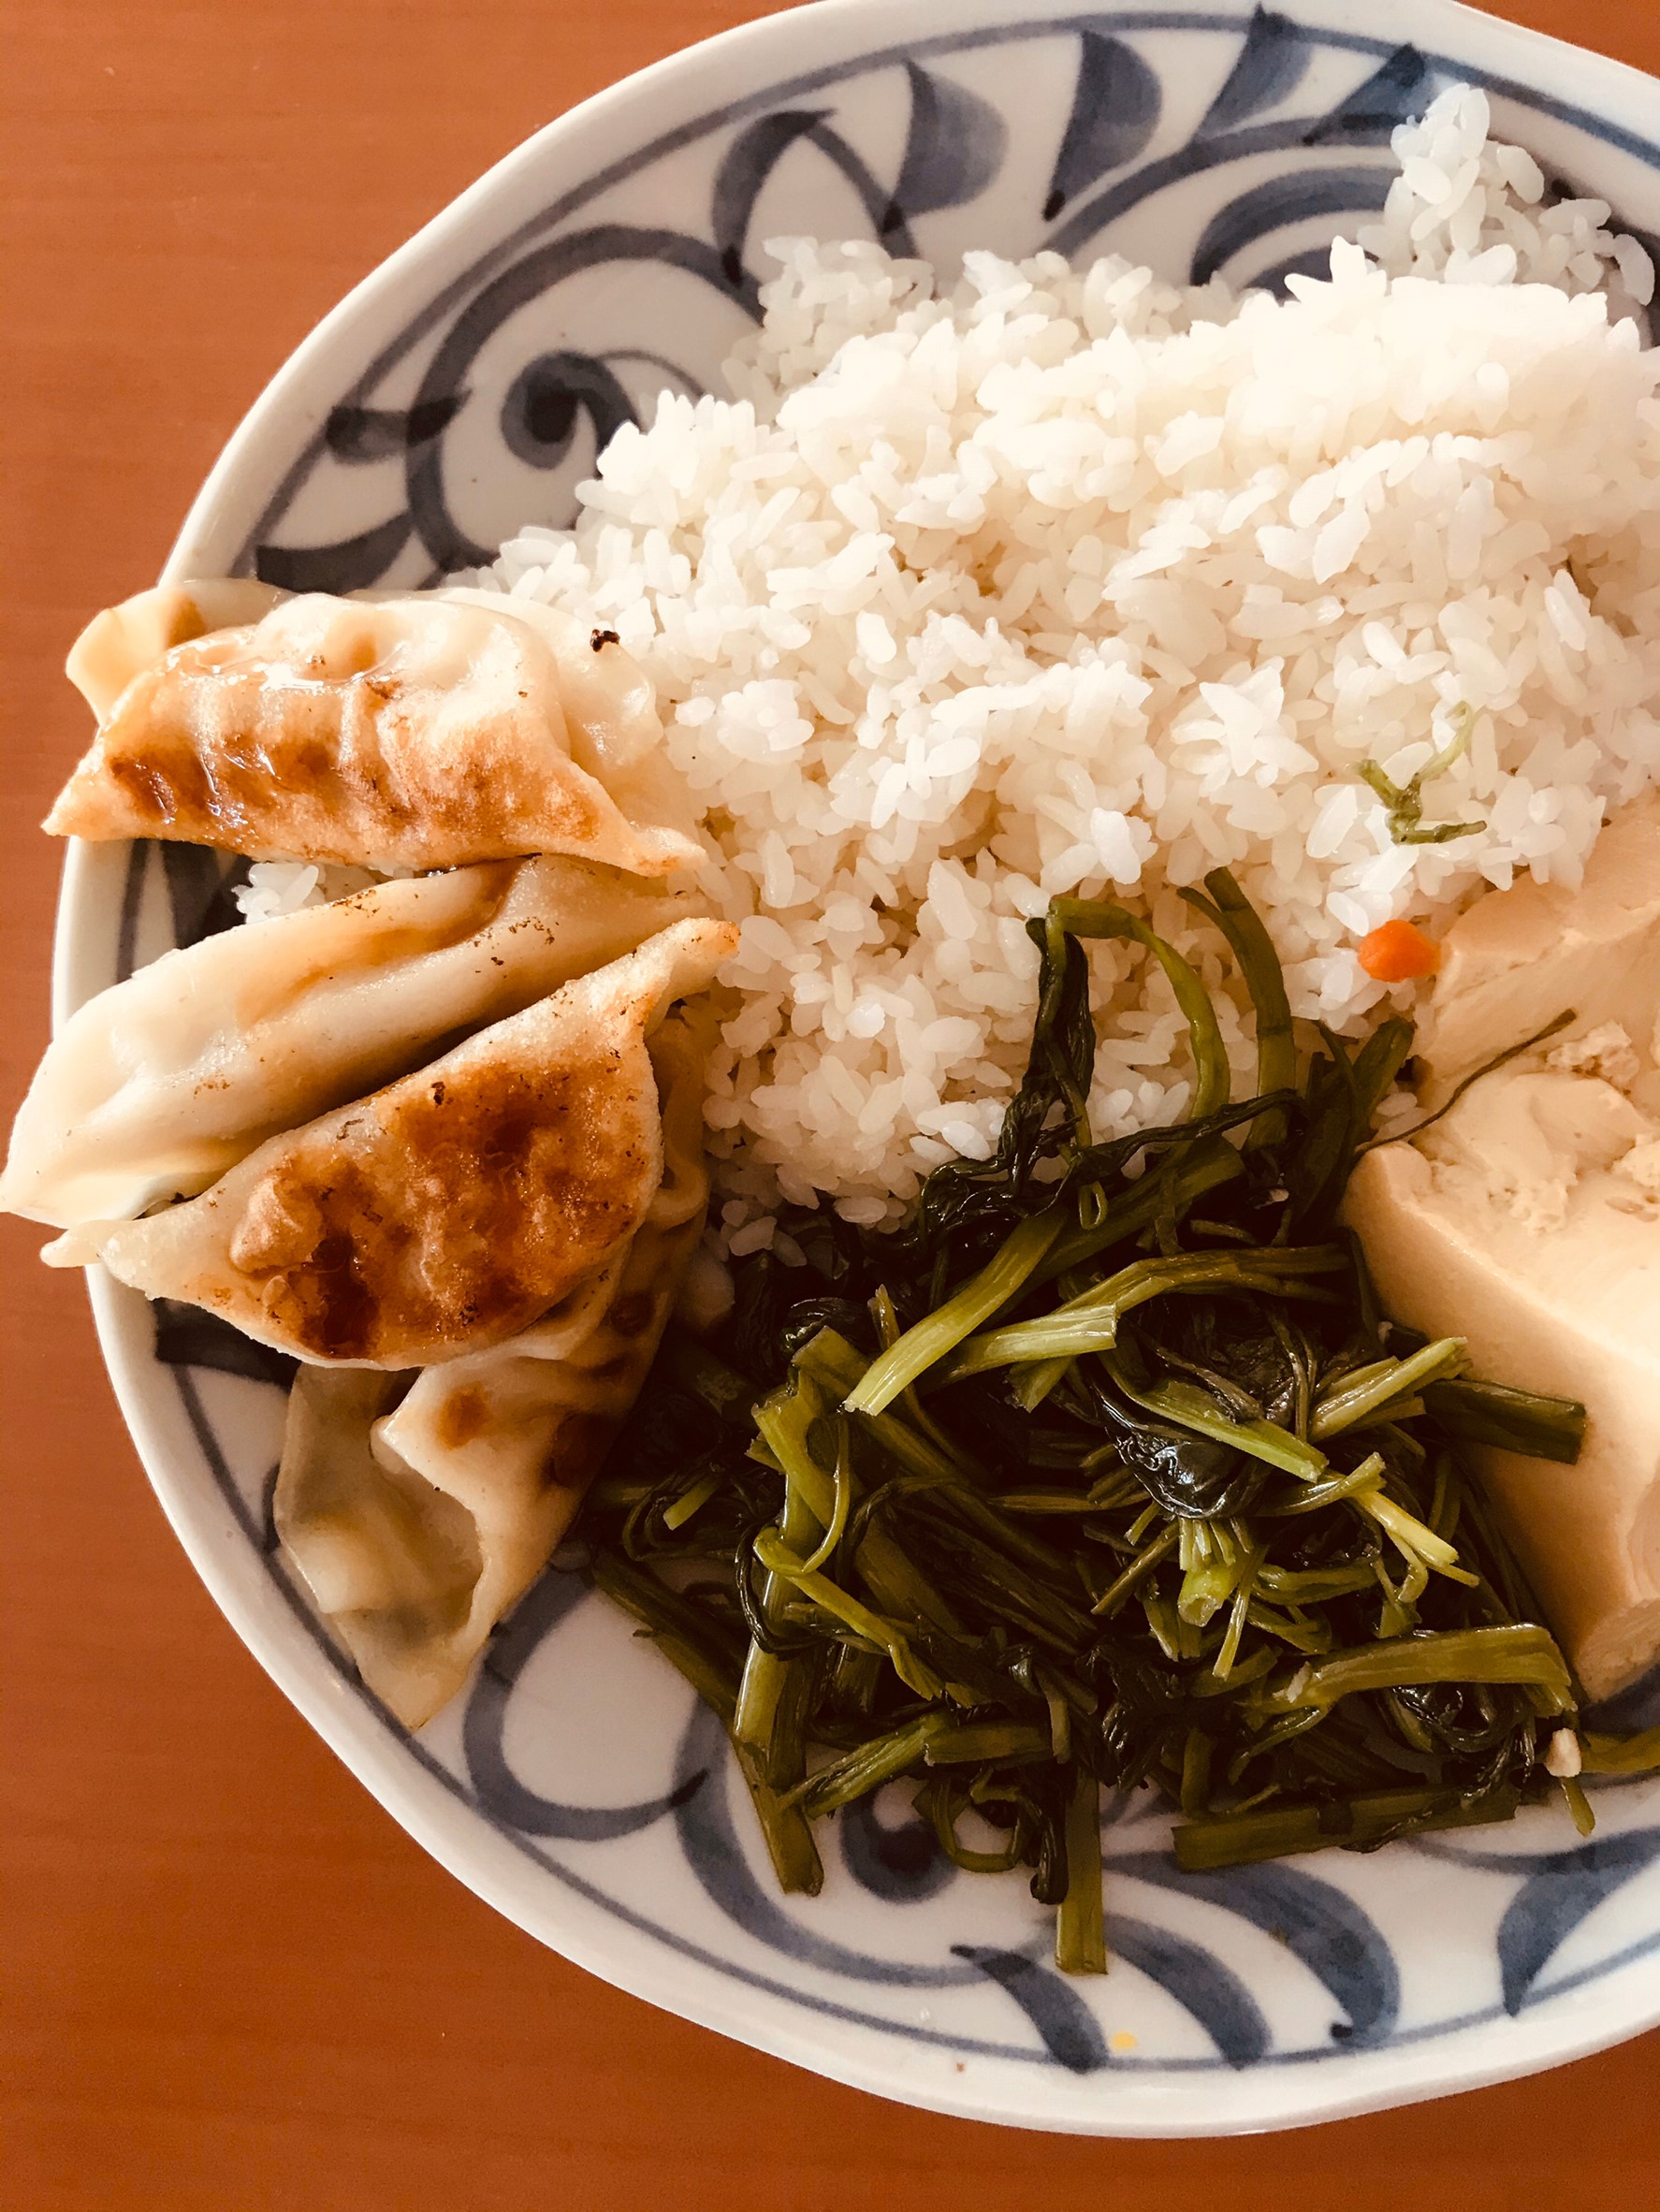fried_dumplings: (85, 579, 610, 1302)
rice: (703, 281, 1660, 1140)
water_spinach: (799, 1170, 1372, 1813)
